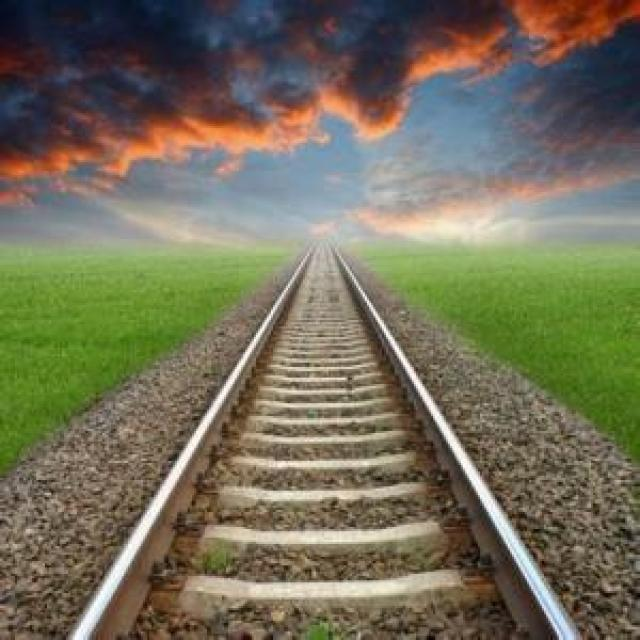rail: (6, 1, 638, 639)
